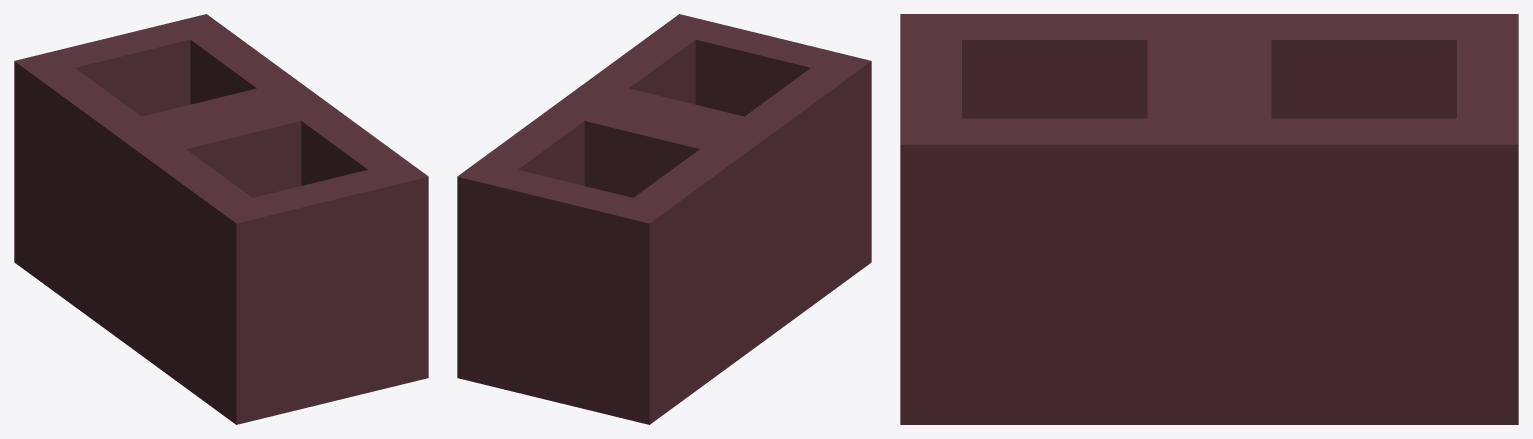
The model's file is brick-concrete.fbx.
The picture shows the model from 3 angles, left to right: view 1: azimuth 30°, elevation 25°; view 2: azimuth 150°, elevation 25°; view 3: azimuth 270°, elevation 25°; orthographic projection. The views are drawn at different scales.
Visible parts, largest first — view 1: brick-concrete; view 2: brick-concrete; view 3: brick-concrete.
Boxes of the visible parts, box(x1,y1,x2,y2) form: brick-concrete: box(14, 14, 428, 424); brick-concrete: box(457, 14, 871, 424); brick-concrete: box(900, 14, 1518, 424).
Bounding box in the file's own units: 0.2 × 0.2 × 0.4.
